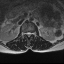CCS_normal: (27, 30, 29, 39)
LFS_normal: (31, 30, 34, 36)
LLS_normal: (29, 30, 32, 36)
RFS_normal: (24, 30, 26, 36)
RLS_normal: (25, 30, 27, 37)
